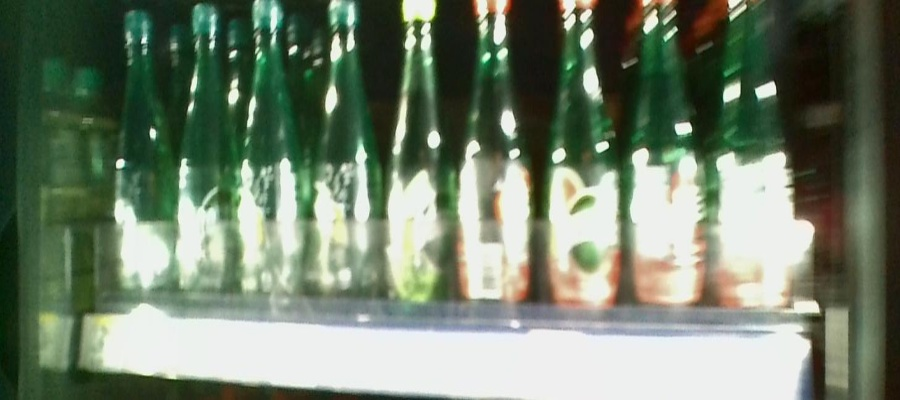bottle: (715, 1, 798, 318), (547, 5, 624, 321), (460, 4, 535, 315), (633, 5, 705, 315), (387, 1, 453, 318), (313, 4, 381, 305), (240, 7, 303, 313), (114, 5, 176, 315), (180, 1, 234, 312)
